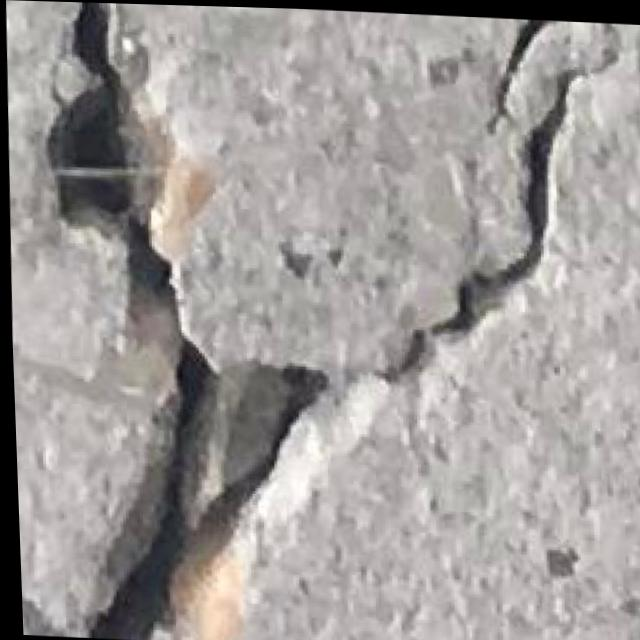Crack: (36, 1, 640, 640)
